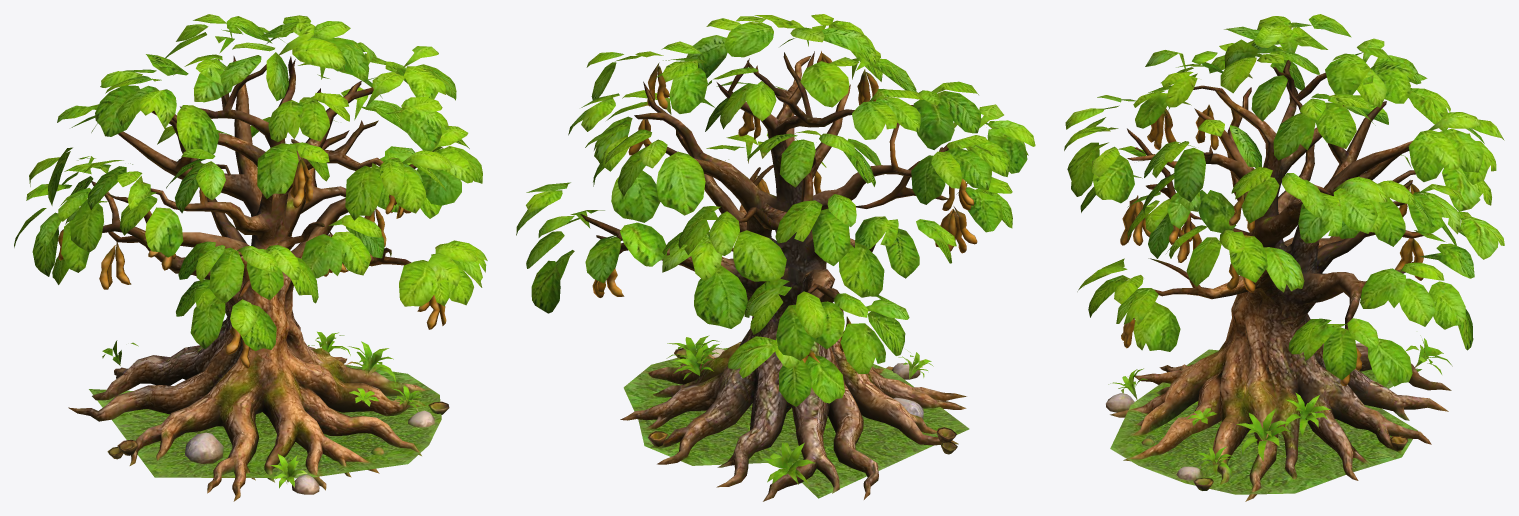
The model's file is pohon-2.glb.
3 renders of one model, left to right at view 1: azimuth 30°, elevation 25°; view 2: azimuth 150°, elevation 25°; view 3: azimuth 270°, elevation 25°, orthographic. The views are drawn at different scales.
Visible parts, largest first — view 1: pohon; view 2: pohon; view 3: pohon.
Part boxes in pixels (x1,y1,x2,y2): pohon: (14, 14, 487, 501); pohon: (516, 14, 1035, 501); pohon: (1064, 14, 1504, 501).
Bounding box in the file's own units: 0.9995 × 0.9614 × 0.9868.
1 material, 1 textured.
